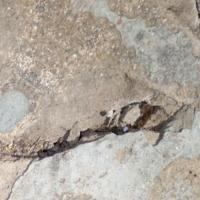crack: (2, 96, 176, 174)
